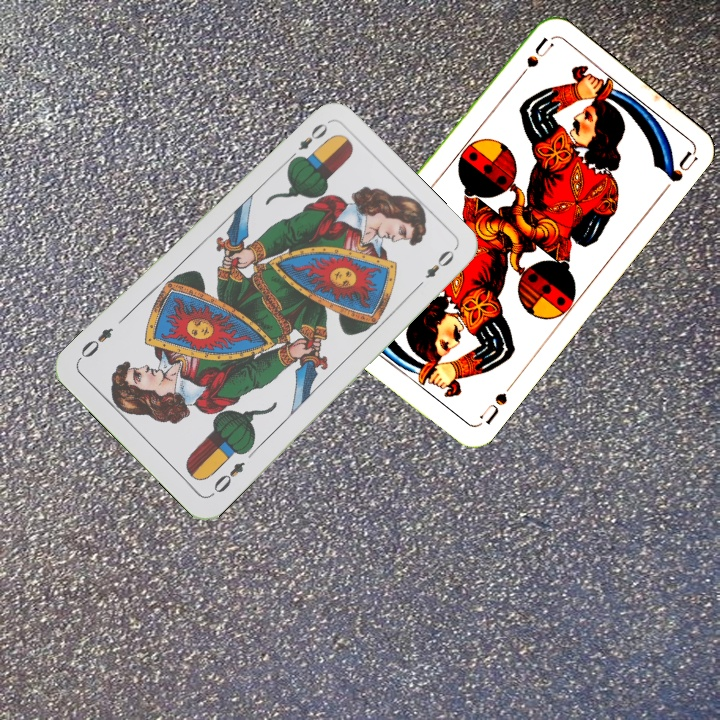EO: (283, 118, 331, 165), (206, 457, 248, 499)
SU: (510, 33, 556, 86), (475, 388, 510, 428)
